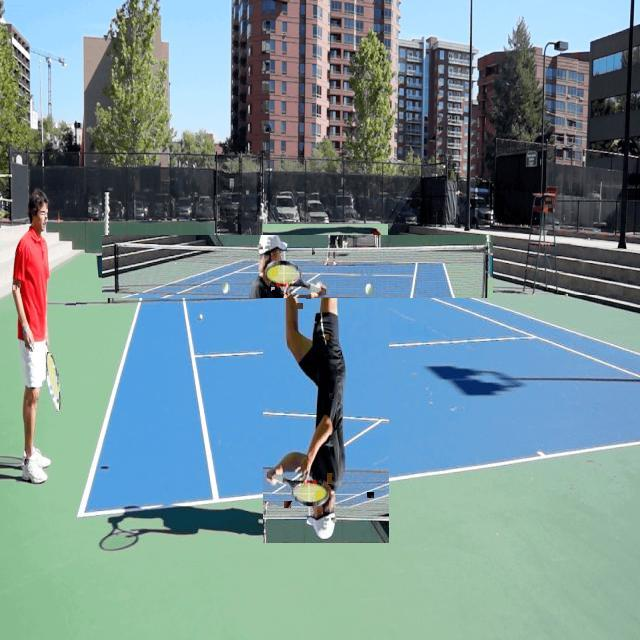ankle: (285, 502, 293, 508), (367, 494, 374, 500), (25, 459, 32, 463)
court: (76, 296, 640, 594)
elbow: (297, 305, 303, 311), (325, 336, 329, 342), (13, 286, 17, 292)
eye: (313, 248, 317, 255), (40, 211, 45, 214)
hand: (306, 298, 311, 304), (273, 288, 277, 292)
hip: (330, 395, 336, 401), (26, 344, 32, 347), (323, 388, 327, 392), (36, 336, 42, 338)
knee: (328, 475, 334, 486), (290, 426, 298, 431), (34, 390, 38, 399)
net: (102, 235, 493, 299)
nose: (45, 218, 48, 224)
player: (264, 225, 389, 544)
shoulder: (20, 247, 26, 252), (331, 290, 337, 294), (41, 246, 45, 250)
tennis ball: (223, 282, 229, 295)
tennis racket: (267, 261, 329, 294), (48, 353, 58, 407)
